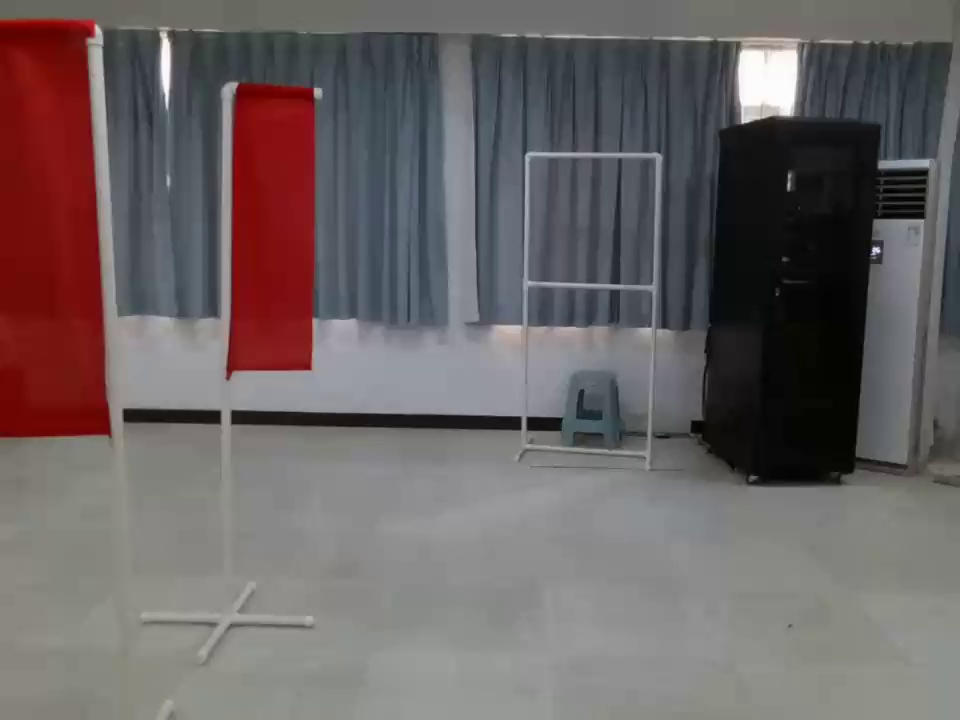qi: (3, 16, 129, 470), (216, 76, 328, 393)
